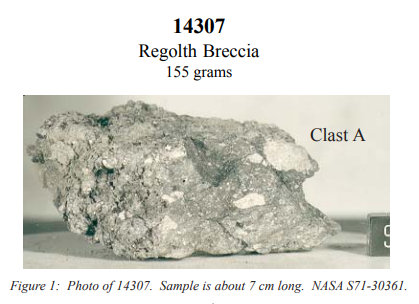Breccia: (32, 106, 325, 264), (85, 129, 221, 231), (206, 150, 295, 240)
